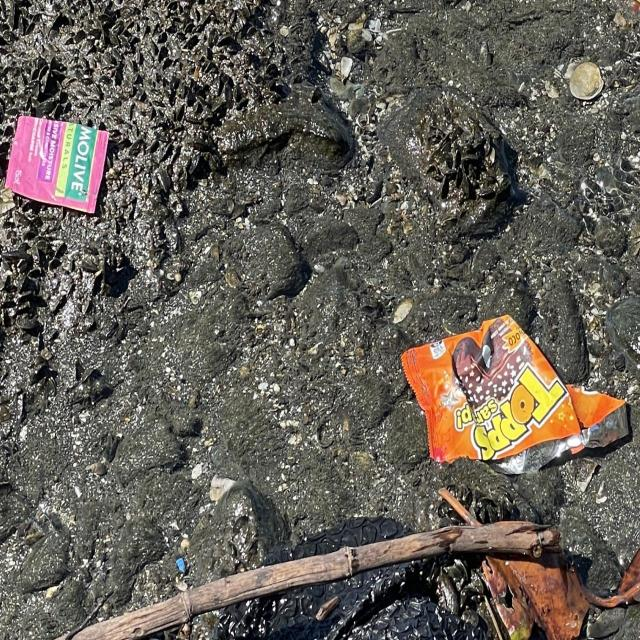plastic_waste: (401, 319, 634, 470), (8, 114, 112, 214)
